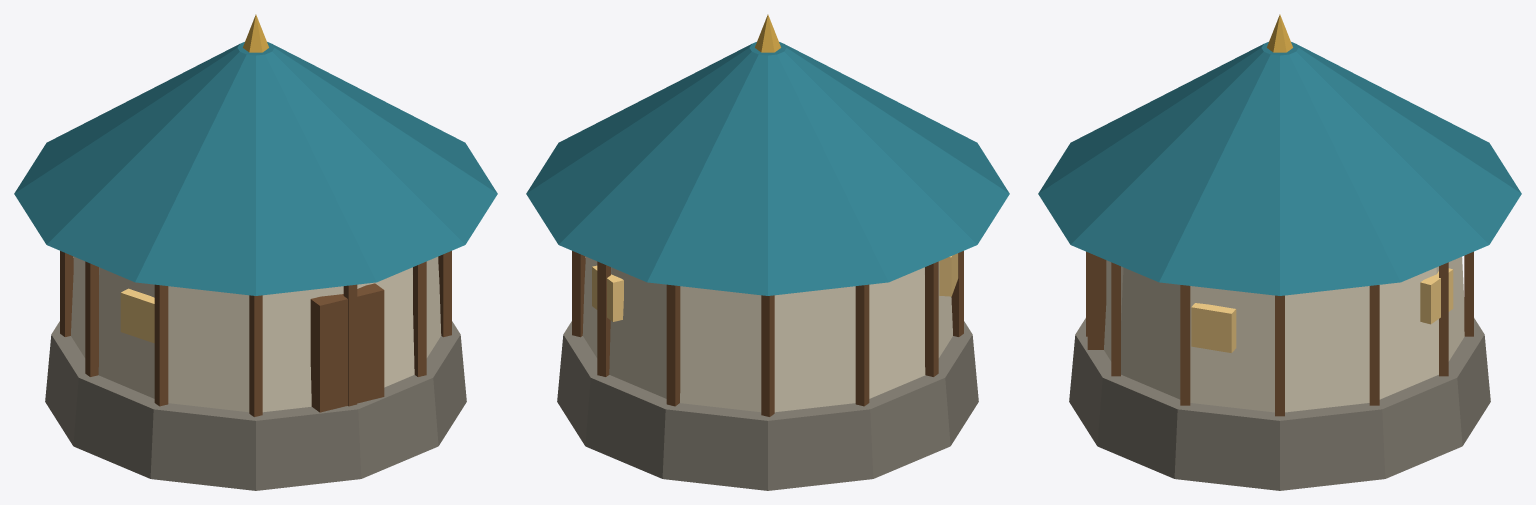
File: hut_0.glb
3 views of the same model, side by side, from view 1: azimuth 30°, elevation 25°; view 2: azimuth 150°, elevation 25°; view 3: azimuth 270°, elevation 25° (orthographic).
Parts seen in each view (by area): view 1: Hut; view 2: Hut; view 3: Hut.
Boxes of the visible parts, x1,y1,x2,y2 form: Hut: (14,14,497,490); Hut: (526,14,1009,490); Hut: (1038,14,1521,490).
Size of the model in its own units: 7.8 by 6.9 by 7.8.
